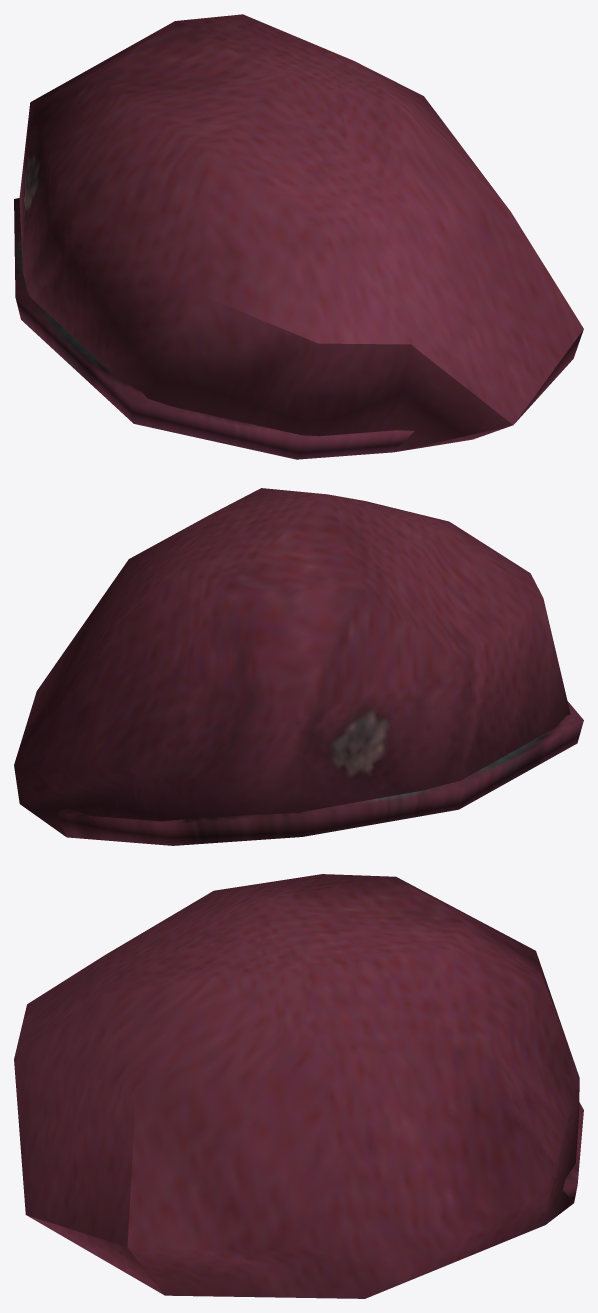
Rendered from Hat_brit_baret2.fbx.
3 renders of one model, top to bottom at view 1: azimuth 30°, elevation 25°; view 2: azimuth 150°, elevation 25°; view 3: azimuth 270°, elevation 25°, orthographic. The views are drawn at different scales.
Visible parts, largest first — view 1: d_en_hat3; view 2: d_en_hat3; view 3: d_en_hat3.
Boxes of the visible parts, x1,y1,x2,y2 form: d_en_hat3: (14, 14, 583, 459); d_en_hat3: (14, 488, 583, 845); d_en_hat3: (14, 874, 583, 1298).
Size of the model in its own units: 20.41 by 12.81 by 22.4.
